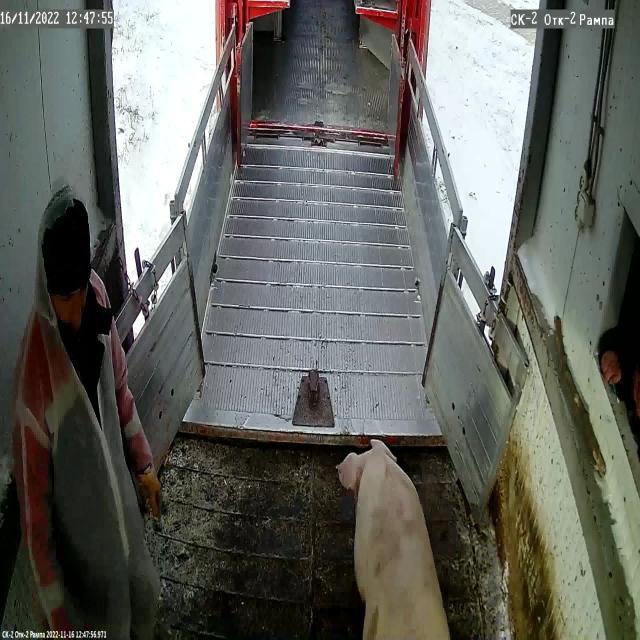pig: (336, 440, 451, 640)
